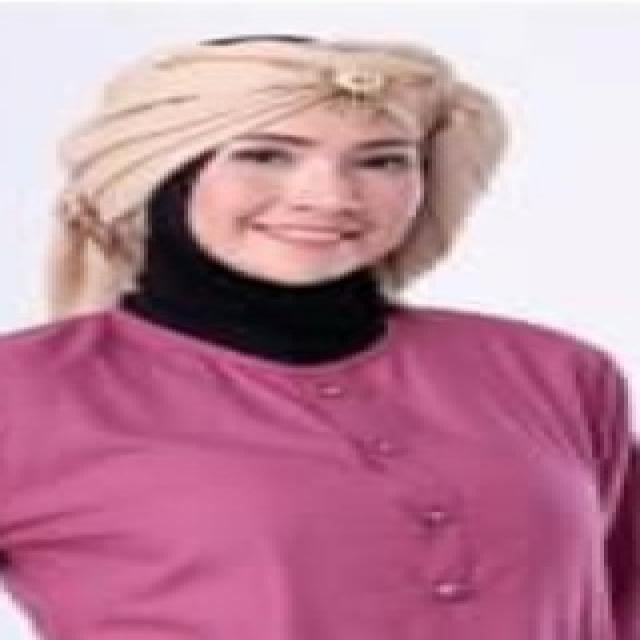head: (119, 29, 501, 303)
